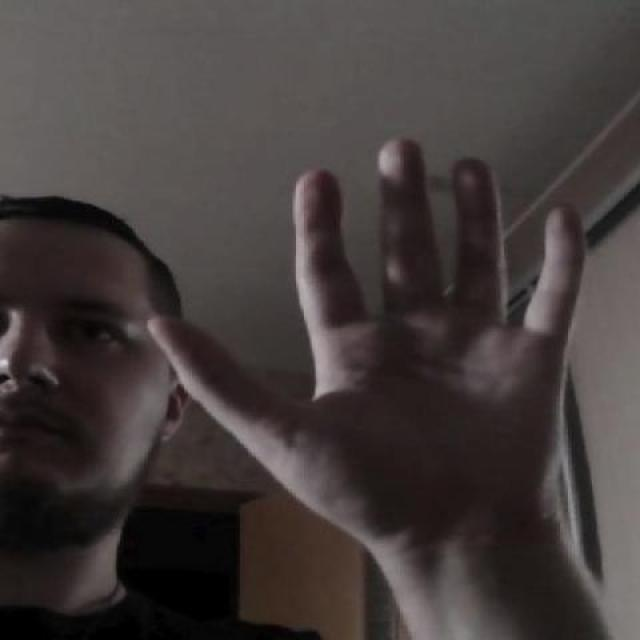Open Hand: (140, 133, 596, 559)
